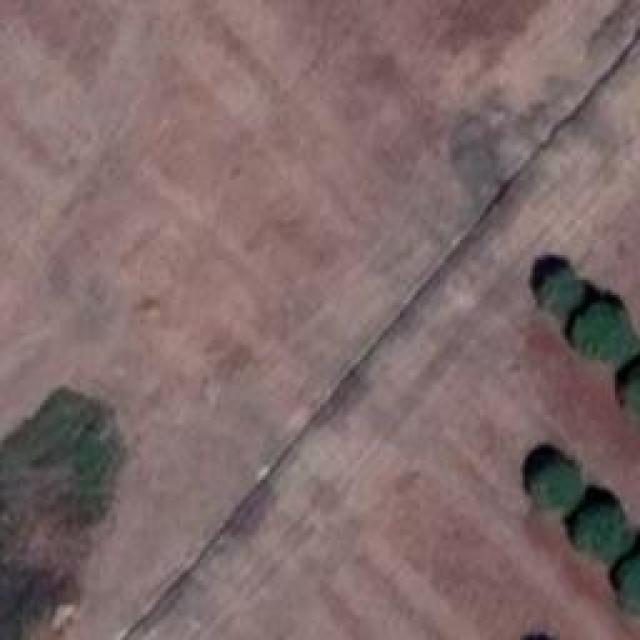Tree: (573, 294, 633, 354), (523, 463, 580, 517), (578, 510, 623, 563), (533, 265, 579, 308), (618, 358, 640, 416), (617, 562, 640, 607)
